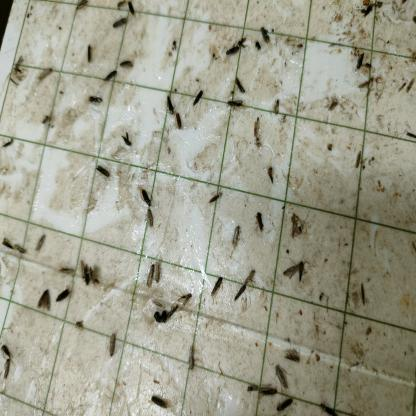prays_oleae: (282, 251, 314, 288), (232, 266, 260, 307), (90, 158, 115, 188), (286, 208, 310, 239), (10, 53, 32, 85), (80, 259, 102, 291), (34, 285, 56, 315), (38, 62, 61, 90), (5, 234, 26, 264), (103, 335, 127, 361), (248, 380, 277, 398), (147, 392, 175, 410), (209, 277, 227, 304), (120, 127, 137, 154), (251, 211, 268, 238), (107, 13, 132, 31), (180, 286, 194, 318), (85, 91, 108, 110), (165, 297, 181, 324), (224, 94, 248, 111), (136, 182, 155, 203), (357, 278, 369, 311), (56, 282, 70, 310), (274, 365, 290, 389), (58, 264, 78, 282), (145, 205, 158, 232), (155, 257, 167, 285), (144, 261, 156, 289), (259, 26, 274, 48), (83, 44, 98, 66), (283, 348, 304, 363), (226, 39, 239, 63), (233, 76, 249, 95), (174, 113, 188, 134), (209, 190, 225, 208), (35, 233, 49, 253), (276, 396, 296, 410), (186, 348, 197, 372), (121, 57, 137, 73), (70, 4, 91, 16), (193, 89, 204, 110), (164, 96, 176, 115), (234, 226, 244, 248), (3, 134, 13, 155), (2, 359, 10, 382), (271, 99, 281, 114)
